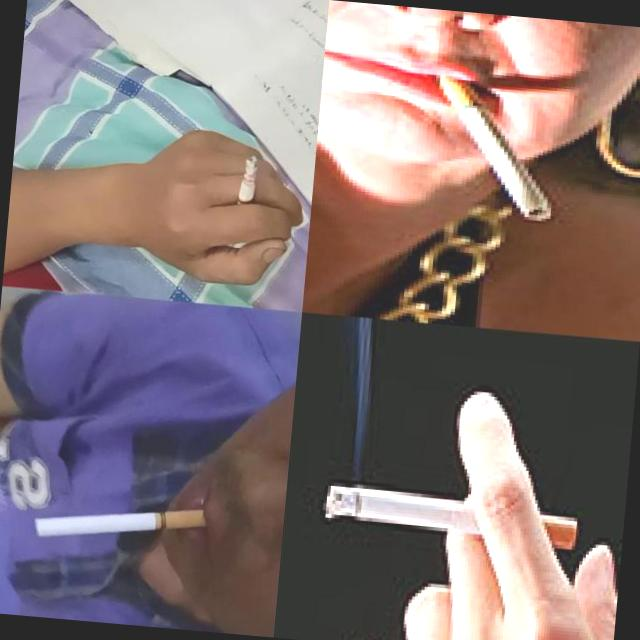cigarette: (425, 72, 564, 223), (323, 483, 580, 551), (29, 494, 206, 552), (235, 154, 258, 216)
